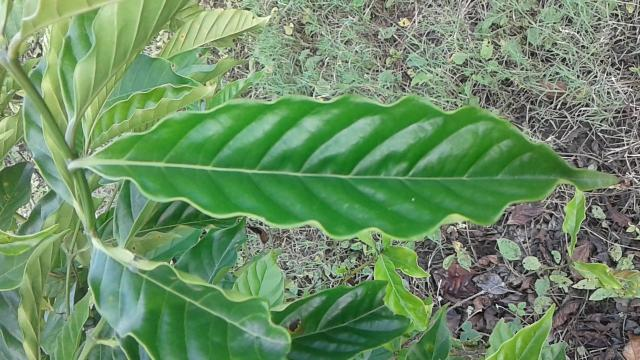healthy: (88, 94, 622, 238)
